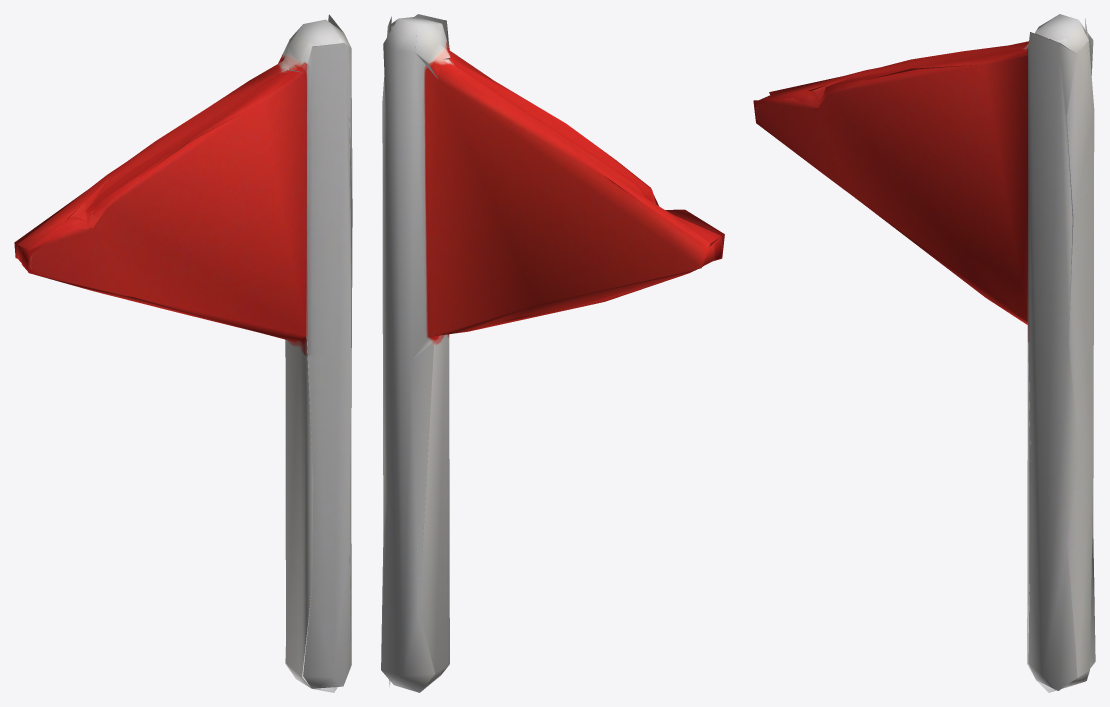
Rendered from Flag.fbx.
3 views of the same model, side by side, from view 1: azimuth 30°, elevation 25°; view 2: azimuth 150°, elevation 25°; view 3: azimuth 330°, elevation 25° (orthographic).
Parts seen in each view (by area): view 1: Mesh1.0; view 2: Mesh1.0; view 3: Mesh1.0.
Boxes of the visible parts, <box> form: Mesh1.0: <box>14,14,352,692</box>; Mesh1.0: <box>381,14,724,692</box>; Mesh1.0: <box>753,14,1095,692</box>.
Bounding box in the file's own units: 98.52 × 191 × 17.31.
1 material, 1 textured.
